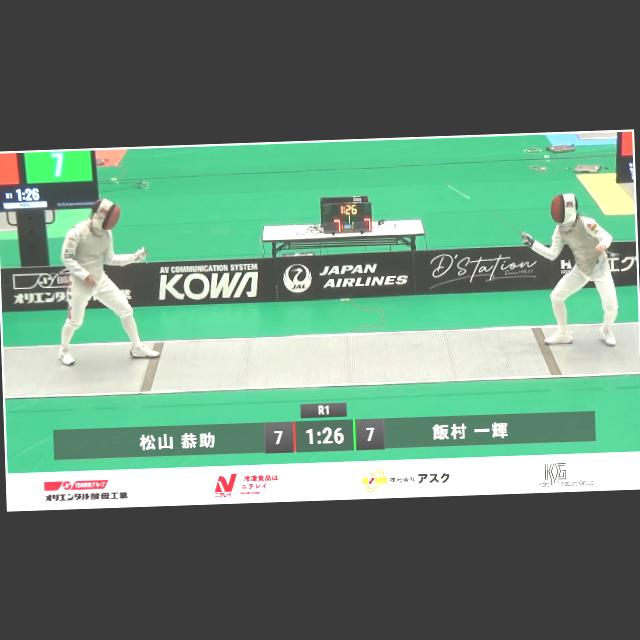blade: (444, 178, 537, 244)
